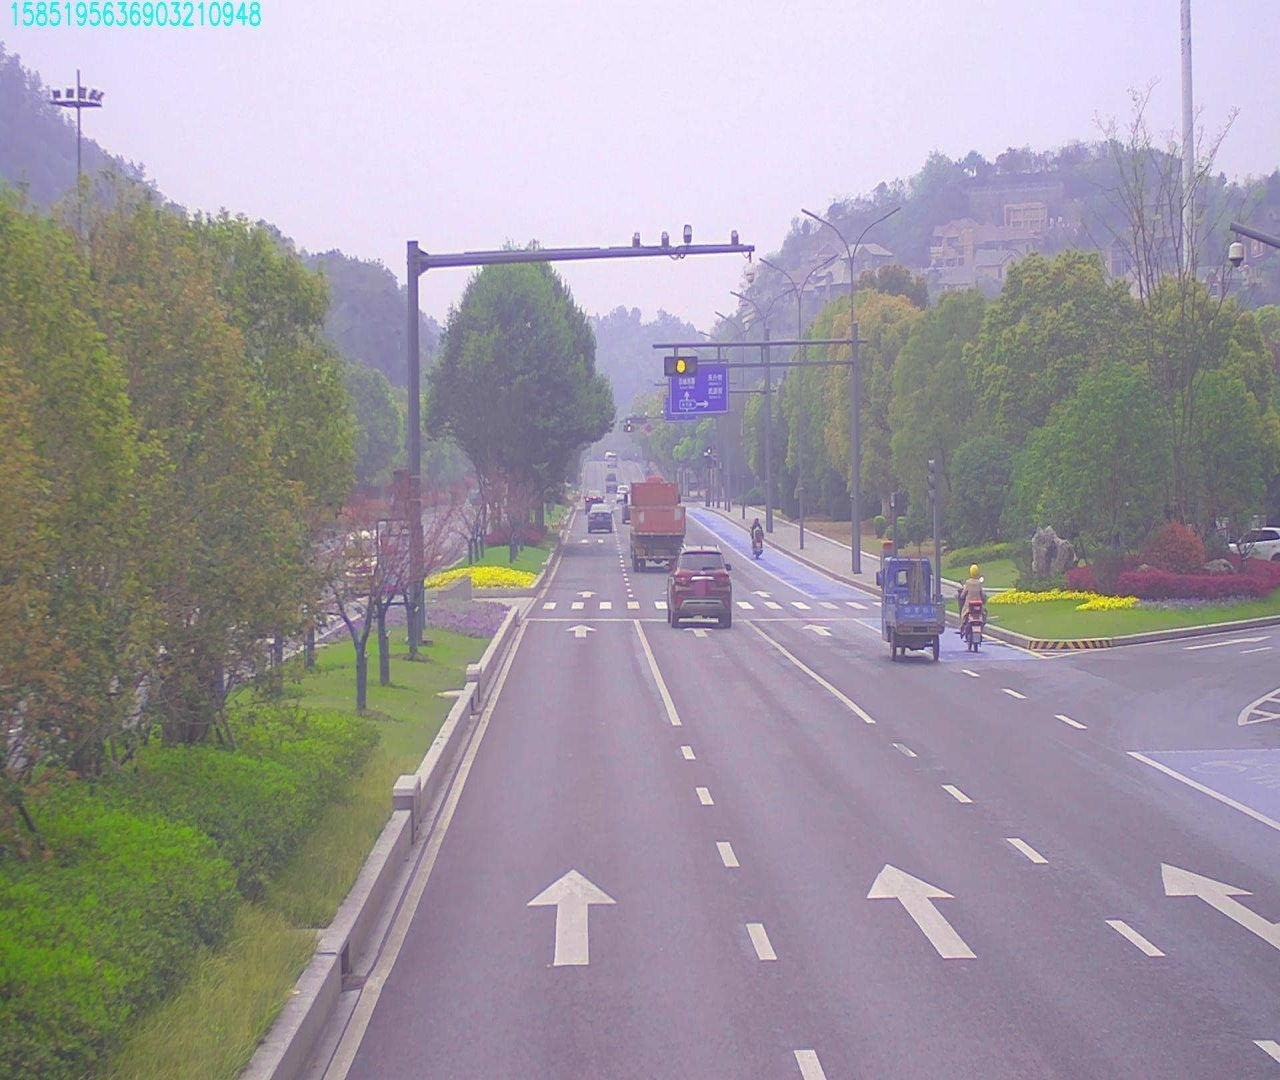yellow: (665, 357, 697, 379)
